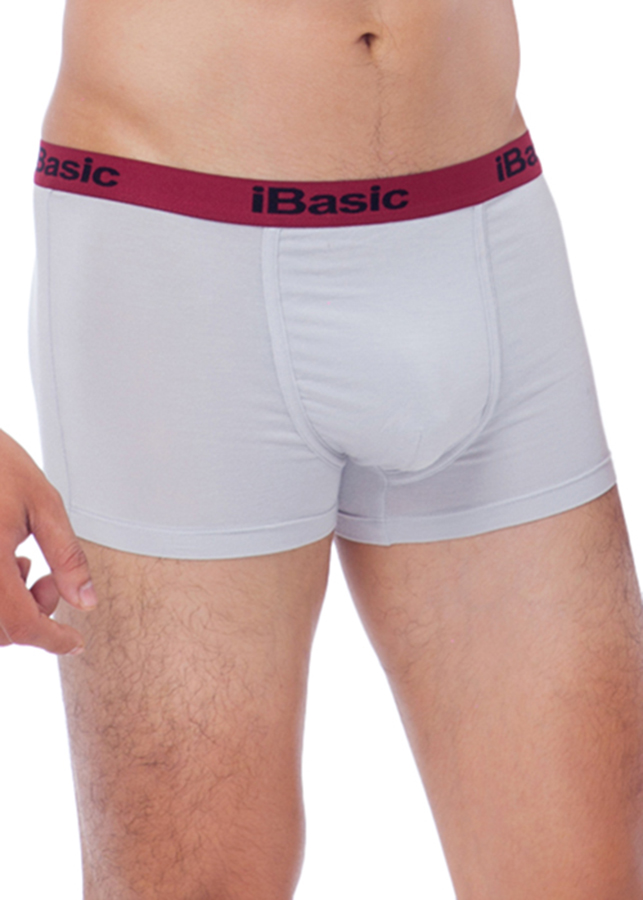iBasic: (243, 183, 419, 226)
